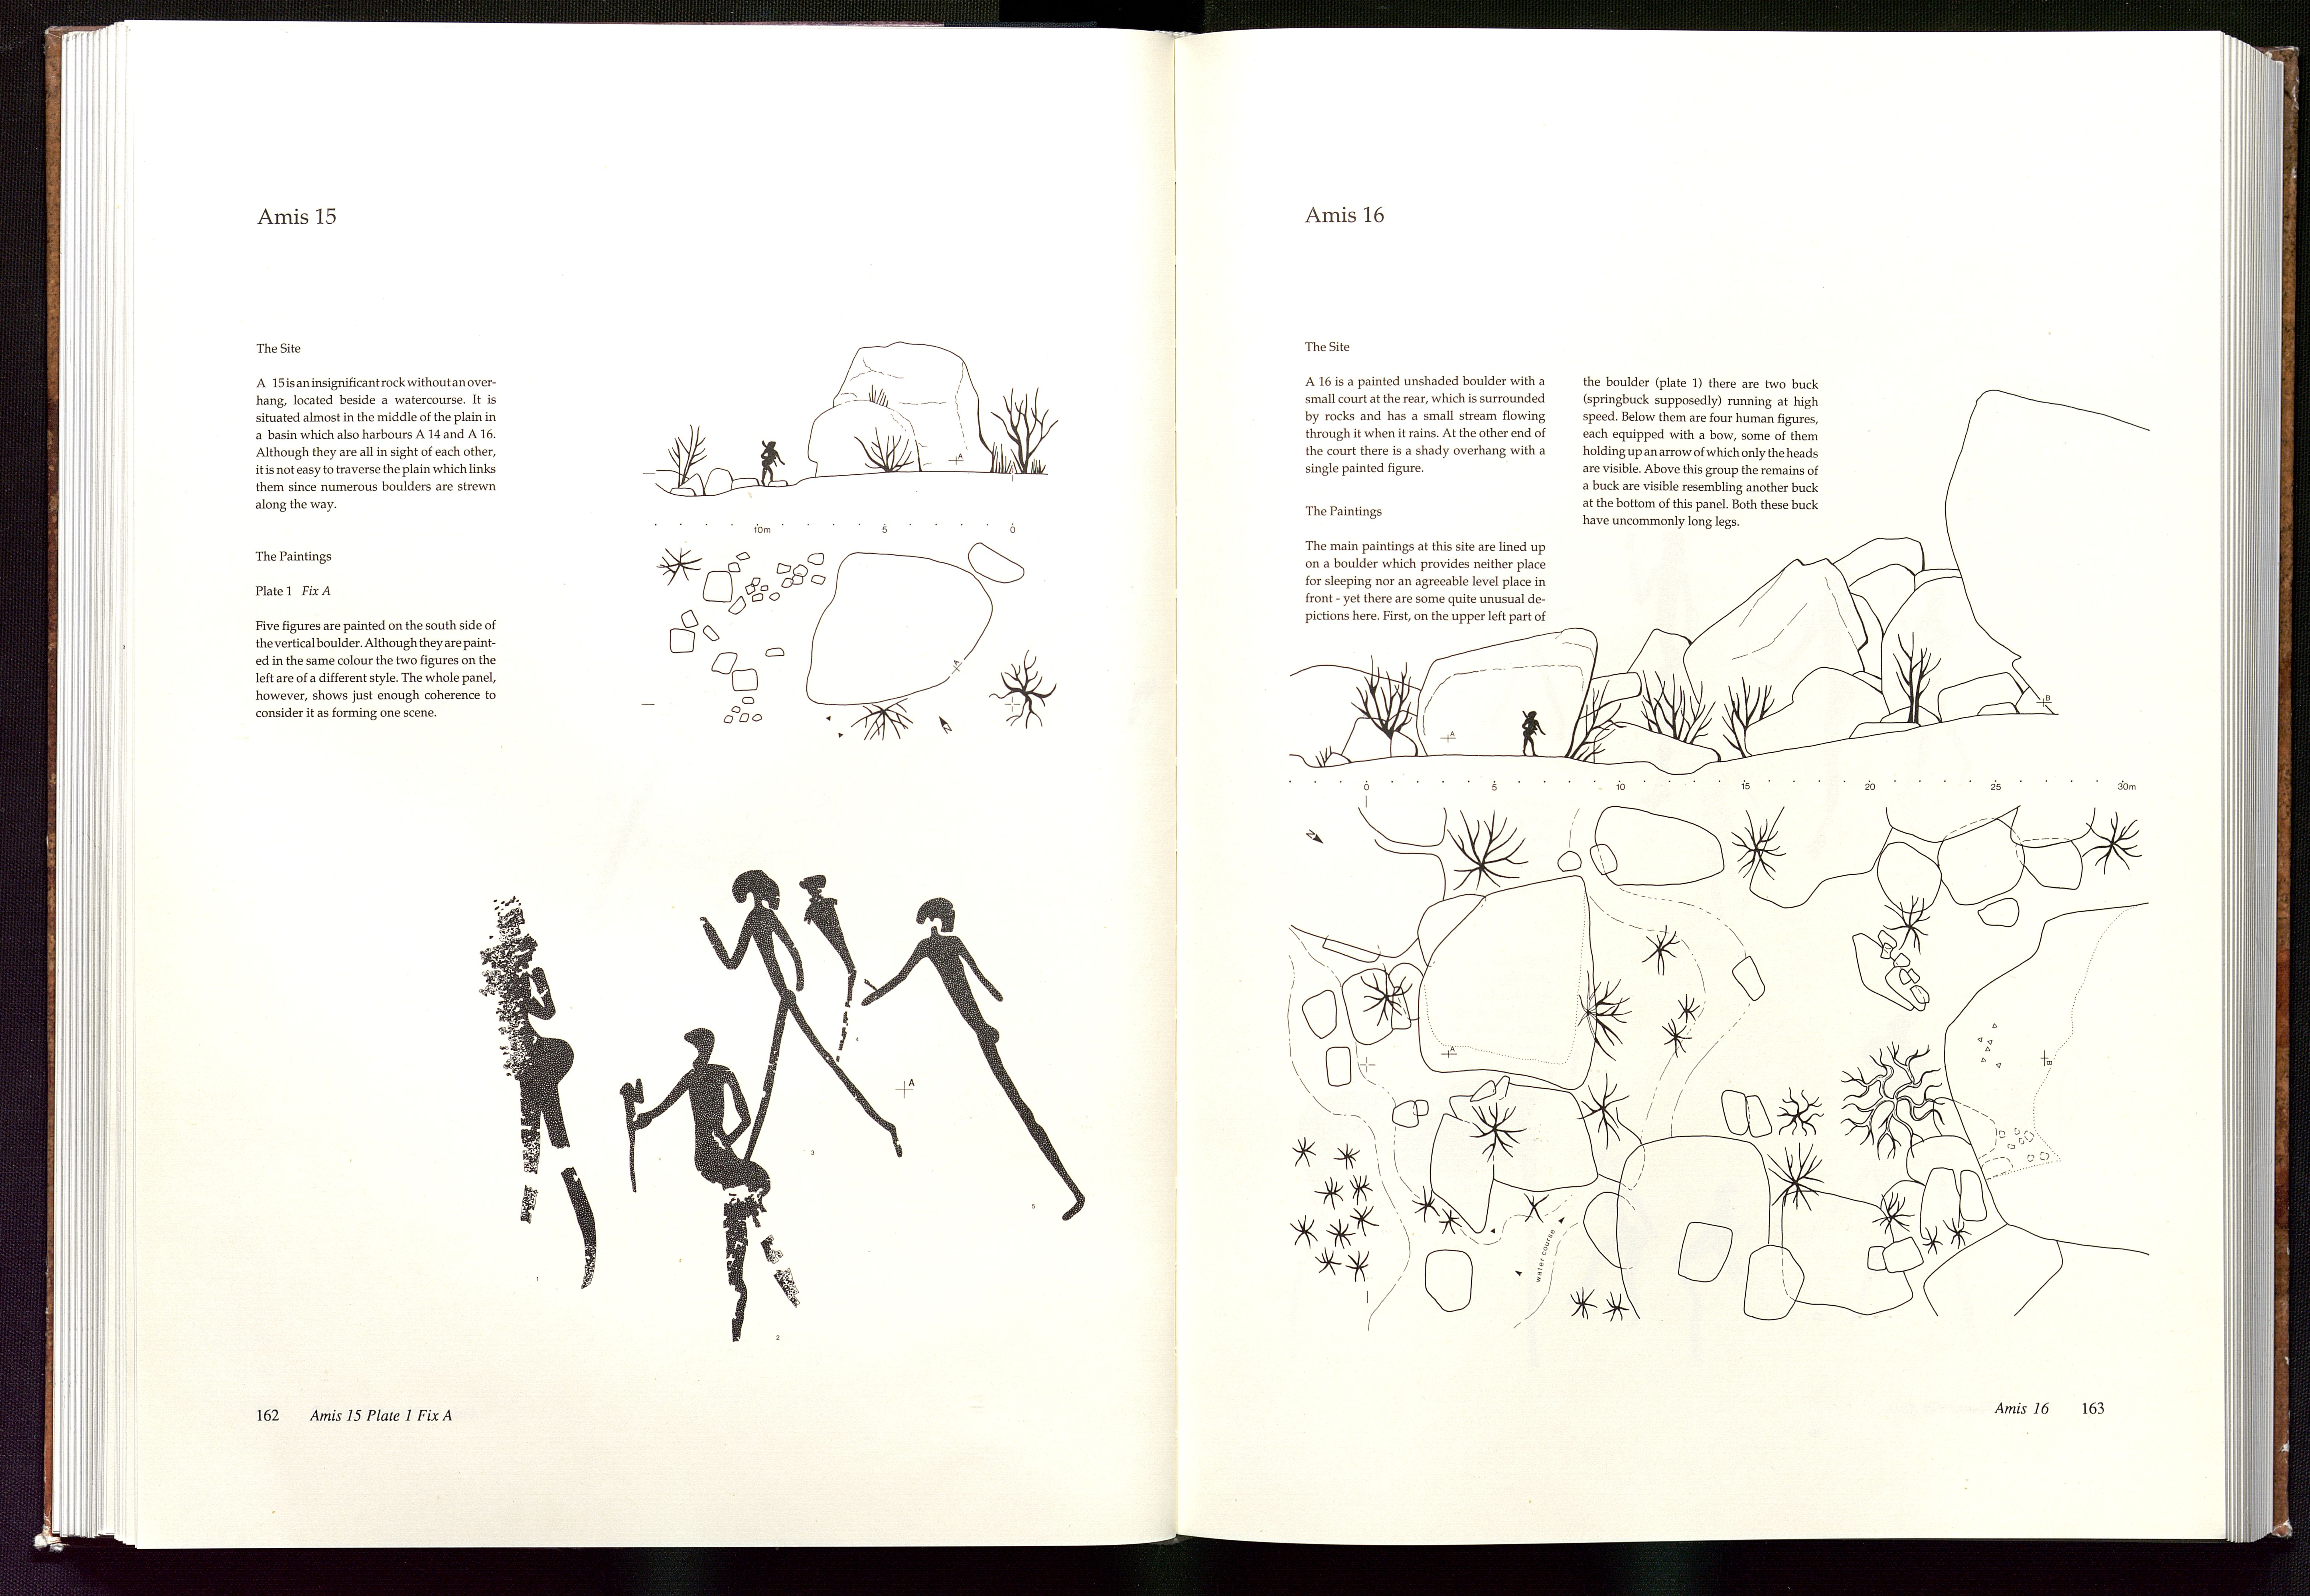human: (861, 890, 1090, 1234), (692, 863, 910, 1204), (608, 1023, 820, 1344), (473, 890, 606, 1315), (795, 868, 893, 1064)
